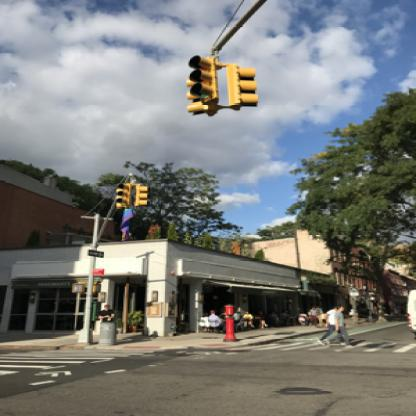trafficlight: (223, 58, 257, 108), (186, 54, 212, 94), (112, 175, 133, 206), (132, 178, 148, 205), (184, 98, 210, 113)
